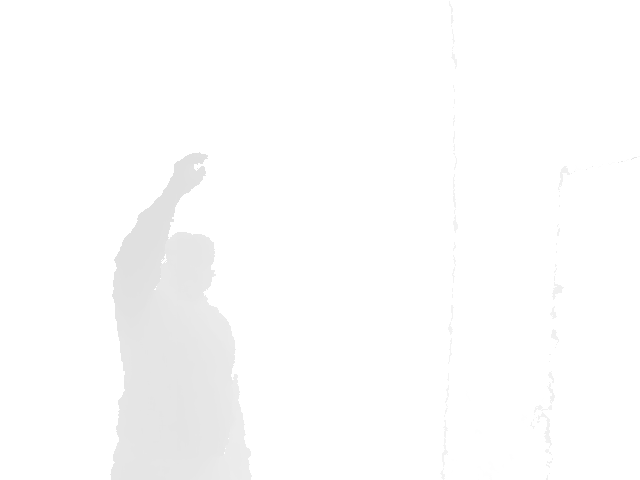hand: (169, 151, 208, 195)
head: (154, 231, 218, 295)
person: (108, 151, 254, 480)
